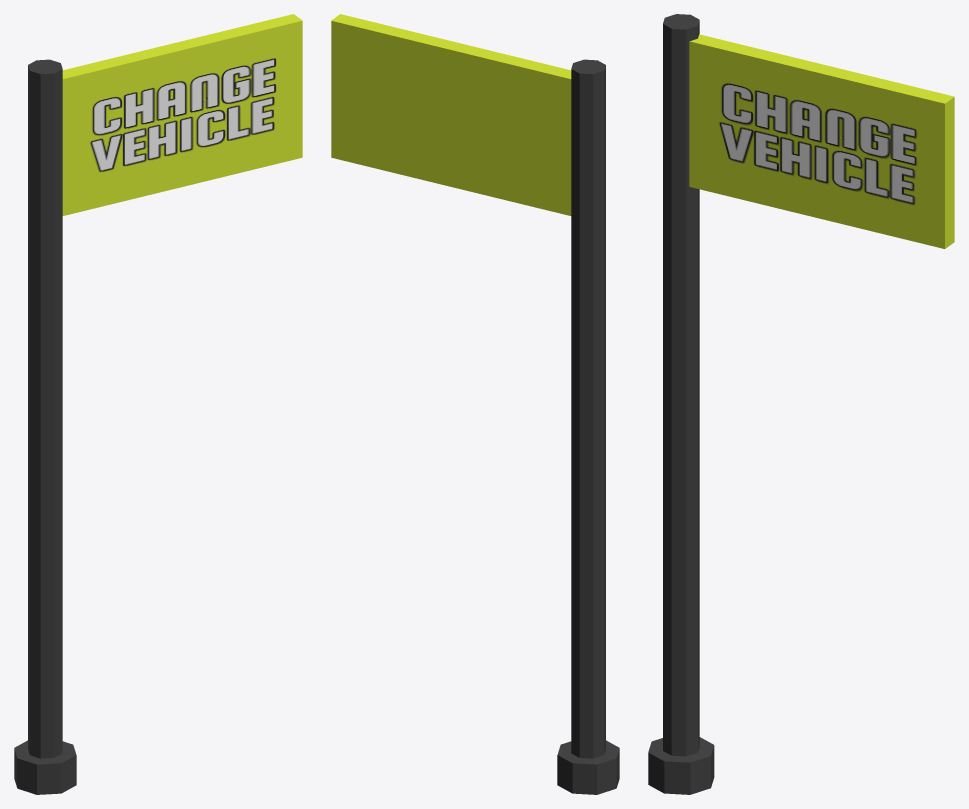
The model's file is flag.fbx.
The picture shows the model from 3 angles, left to right: view 1: azimuth 30°, elevation 25°; view 2: azimuth 150°, elevation 25°; view 3: azimuth 330°, elevation 25°; orthographic projection. The views are drawn at different scales.
Visible parts, largest first — view 1: pCube1, pCylinder1; view 2: pCube1, pCylinder1; view 3: pCube1, pCylinder1.
Part boxes in pixels (x1,y1,x2,y2): pCube1: (62, 14, 302, 215); pCylinder1: (14, 59, 76, 794); pCube1: (331, 14, 571, 215); pCylinder1: (557, 59, 619, 794); pCube1: (689, 34, 954, 248); pCylinder1: (648, 14, 714, 794).
Size of the model in its own units: 10.05 by 24.45 by 2.
